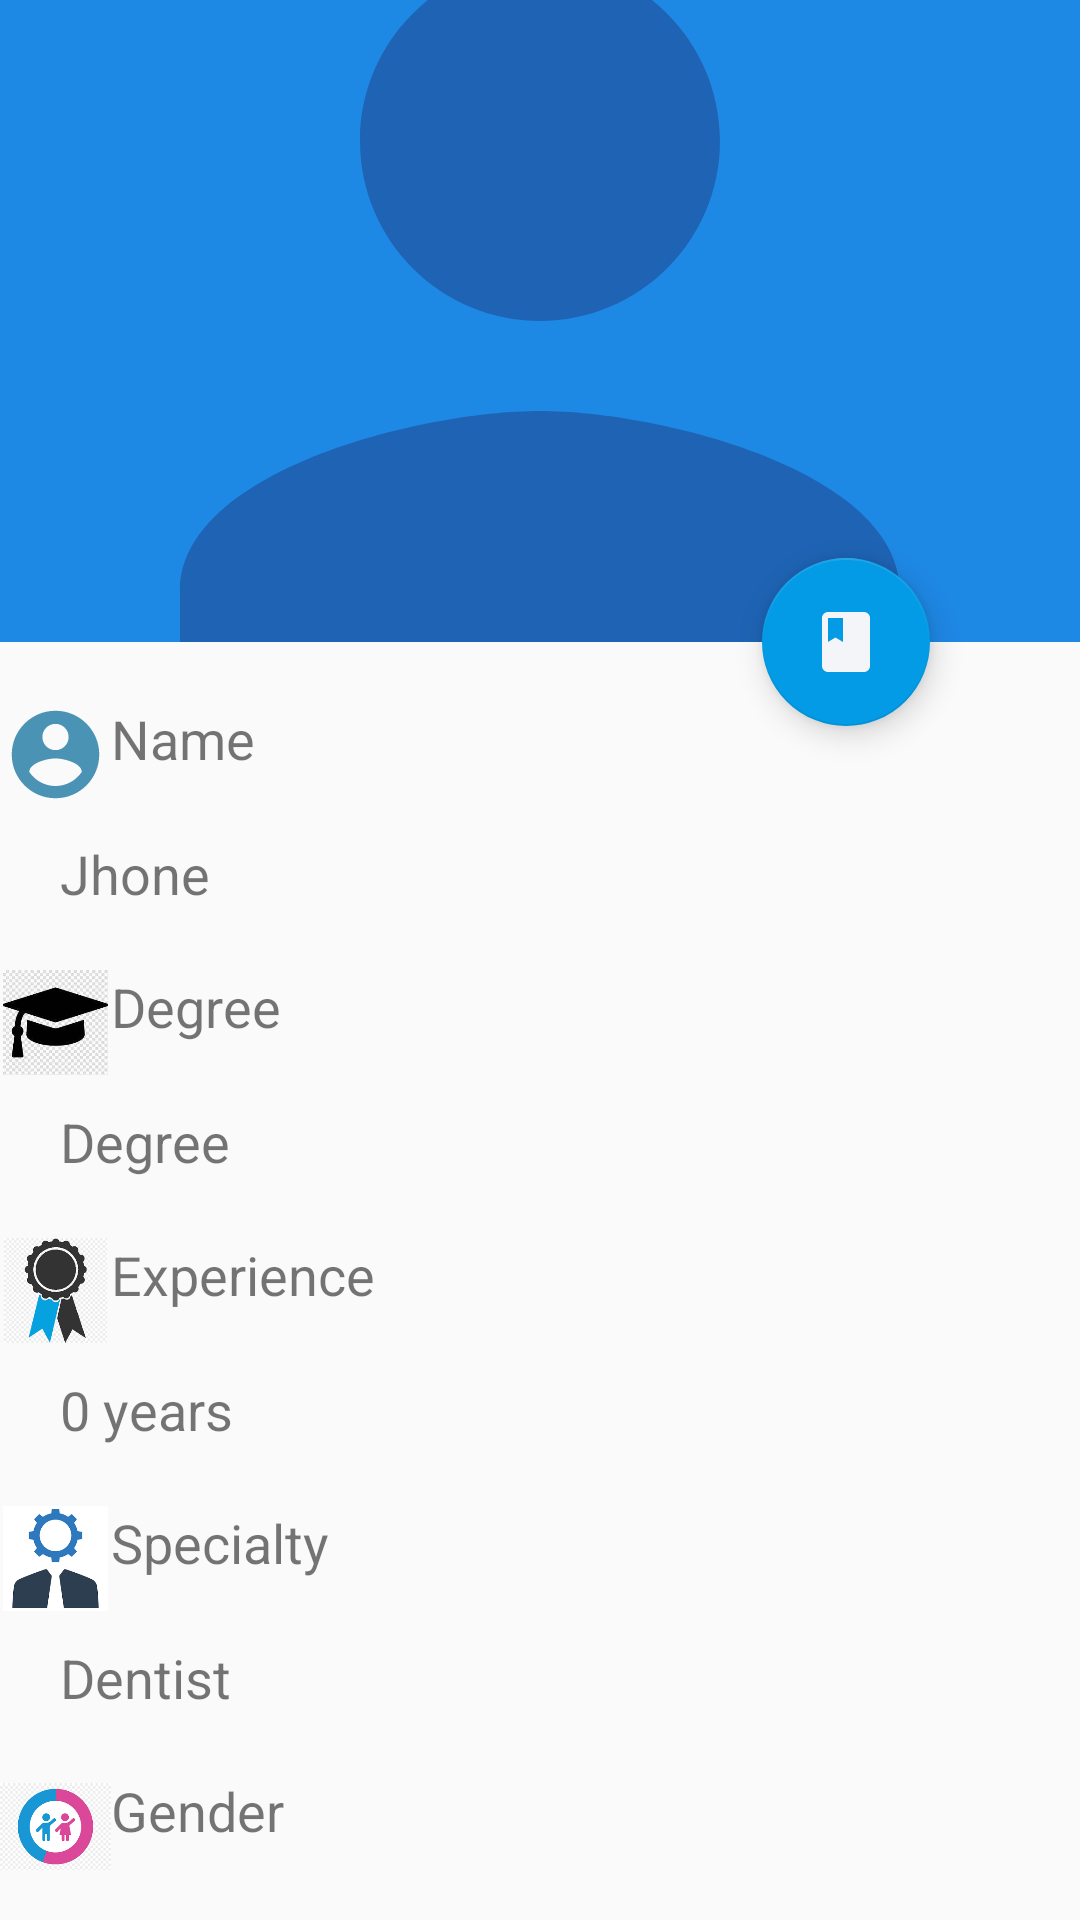

Icon click points for this 1080 × 1920 phone screenshot, format [x,y]:
account circle: [55,754]
book: [846,642]
exp: [55,1290]
